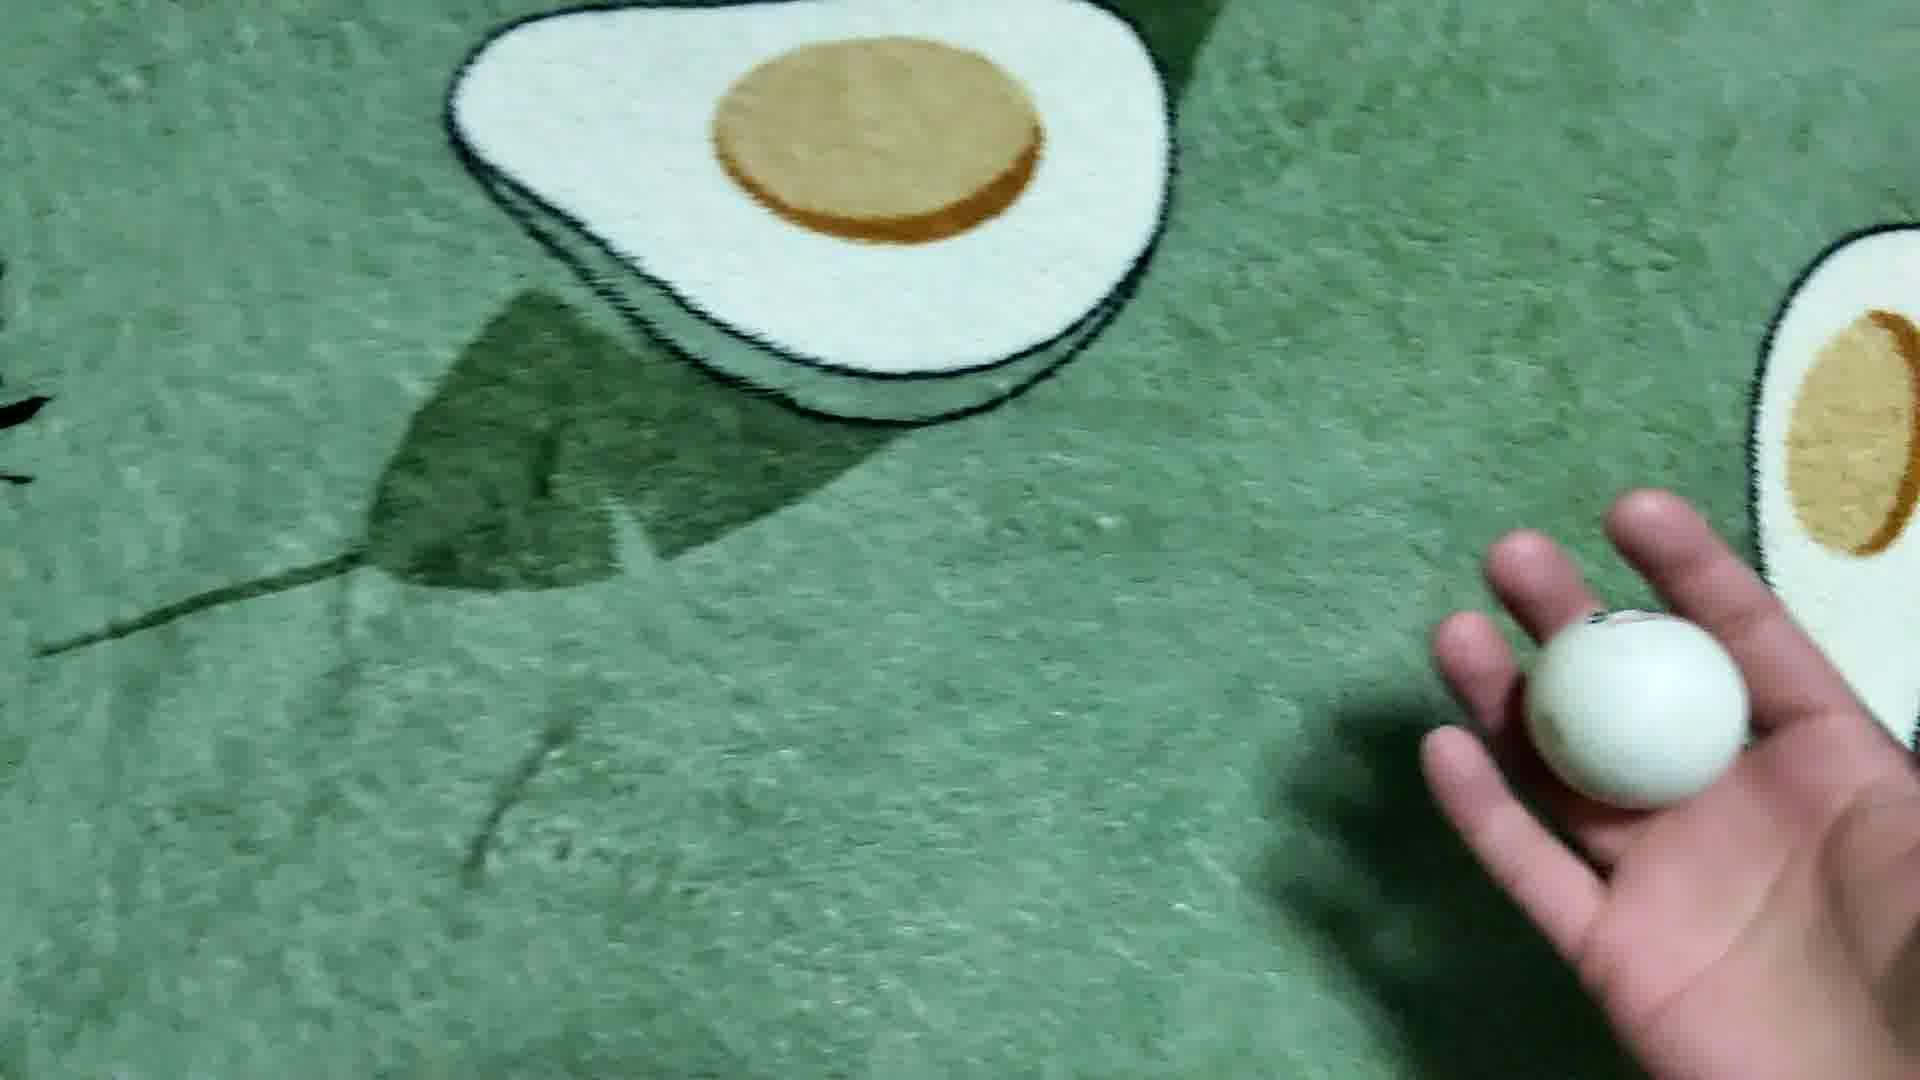Ball: (1527, 608, 1756, 803)
